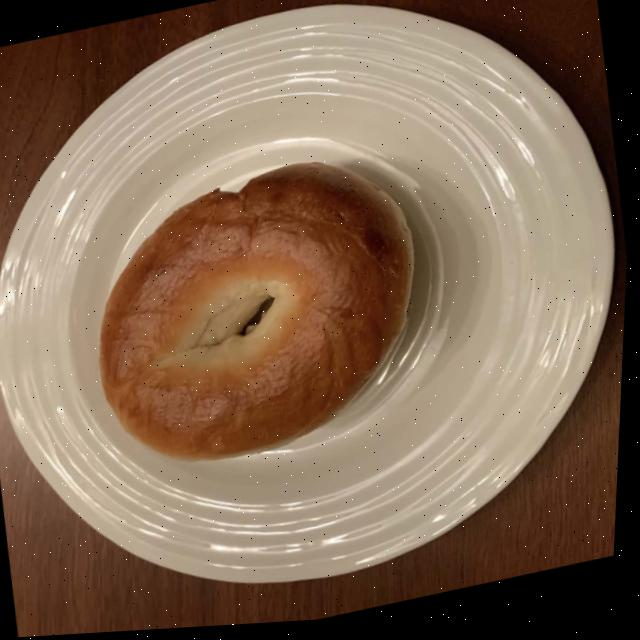Bagel: (103, 165, 416, 462)
